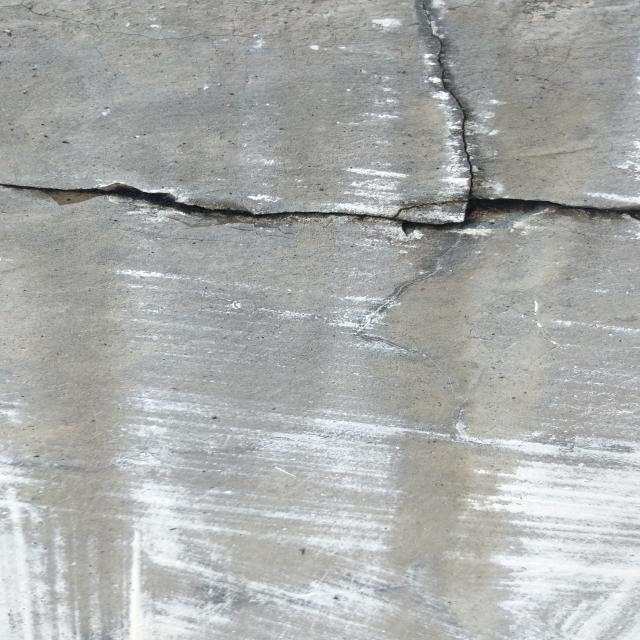Crack: (8, 0, 640, 236)
